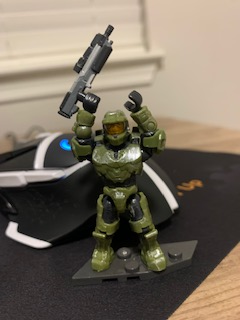chief: (71, 90, 170, 275)
rifle: (53, 23, 116, 118)
spartan: (69, 88, 168, 273)
up: (69, 91, 170, 183)
